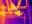Hotspot: (0, 6, 21, 16), (11, 2, 15, 5)
